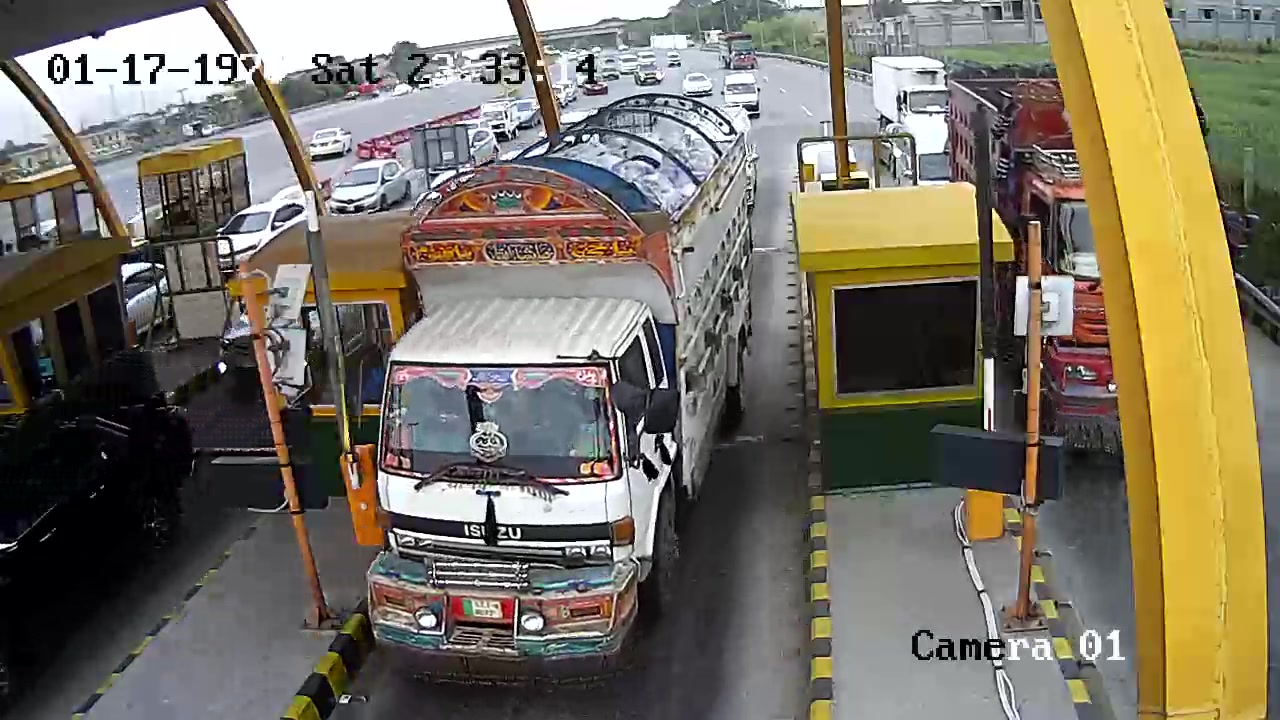F5: (344, 87, 777, 689)
